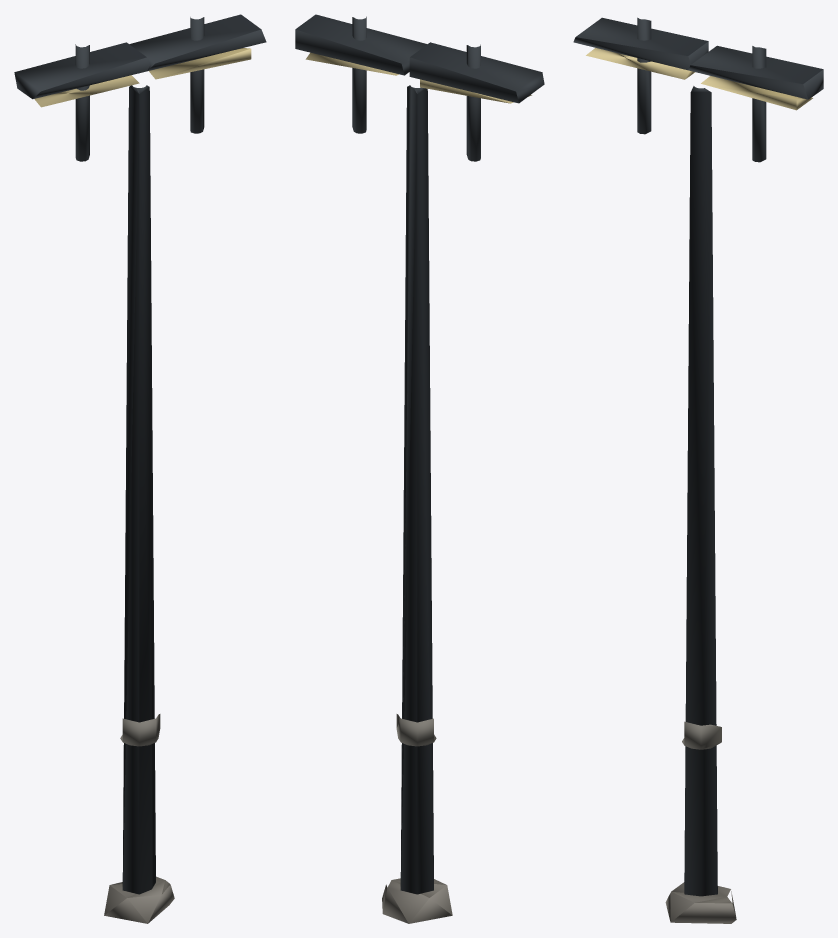
File: street-lamp-twin-v1.lod2.glb
3 views of the same model, side by side, from view 1: azimuth 30°, elevation 25°; view 2: azimuth 150°, elevation 25°; view 3: azimuth 330°, elevation 25° (orthographic).
Visible parts, largest first — view 1: street-lamp-twin-v1.lod2; view 2: street-lamp-twin-v1.lod2; view 3: street-lamp-twin-v1.lod2.
Boxes of the visible parts, left/top/right/bottom form: street-lamp-twin-v1.lod2: left=14, top=14, right=266, bottom=923; street-lamp-twin-v1.lod2: left=295, top=14, right=544, bottom=923; street-lamp-twin-v1.lod2: left=573, top=17, right=823, bottom=923.
Size of the model in its own units: 2.25 by 8.1 by 0.6467.
